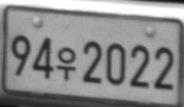0: (105, 42, 126, 85)
2: (153, 46, 175, 91), (81, 39, 102, 84), (129, 43, 150, 88)
4: (32, 36, 55, 80)
9: (10, 33, 31, 77)
우: (55, 45, 76, 81)
